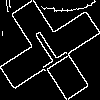T: (25, 25, 75, 80)
